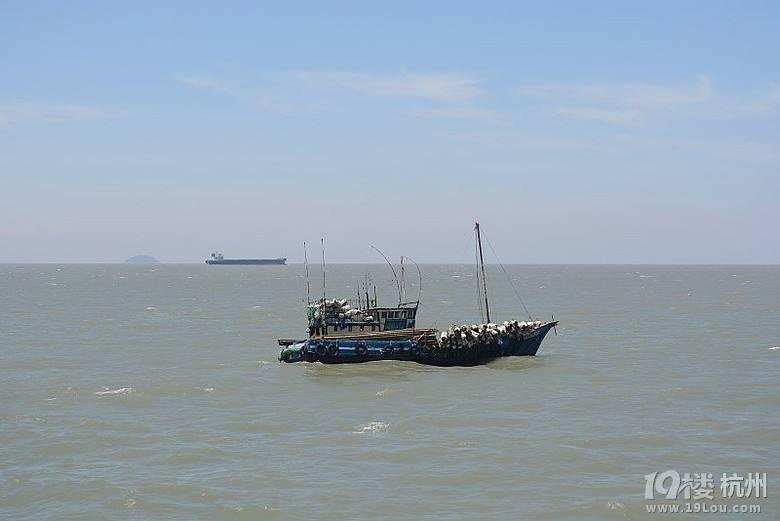Cargoship: (201, 249, 287, 270)
otherboat: (276, 280, 568, 366)
